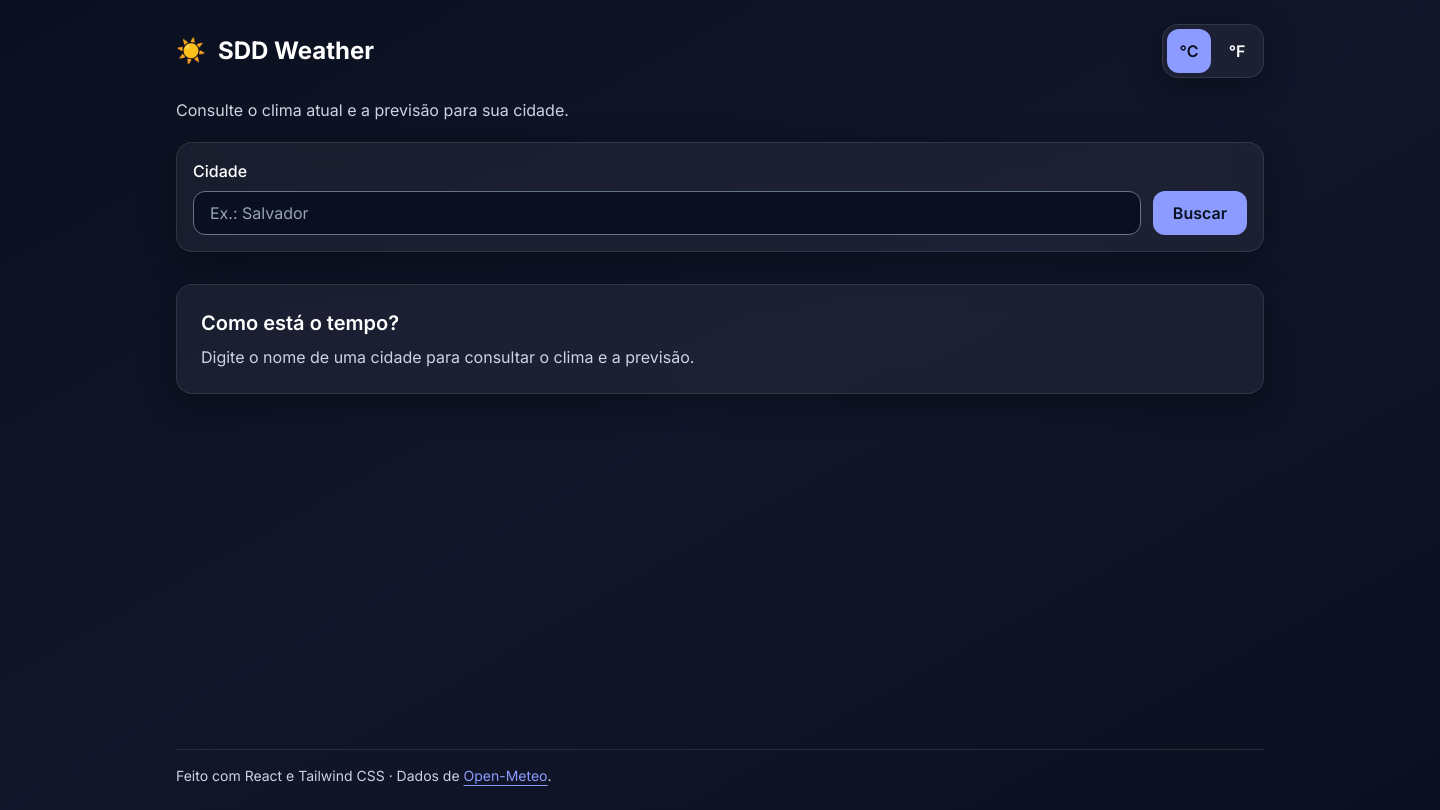
Scenario: App integrado › mostra empty sem forecast e permite uma nova busca preservando a unidade
Click the button named "Graus Fahrenheit": (1237,51) [1215,29,1259,73]
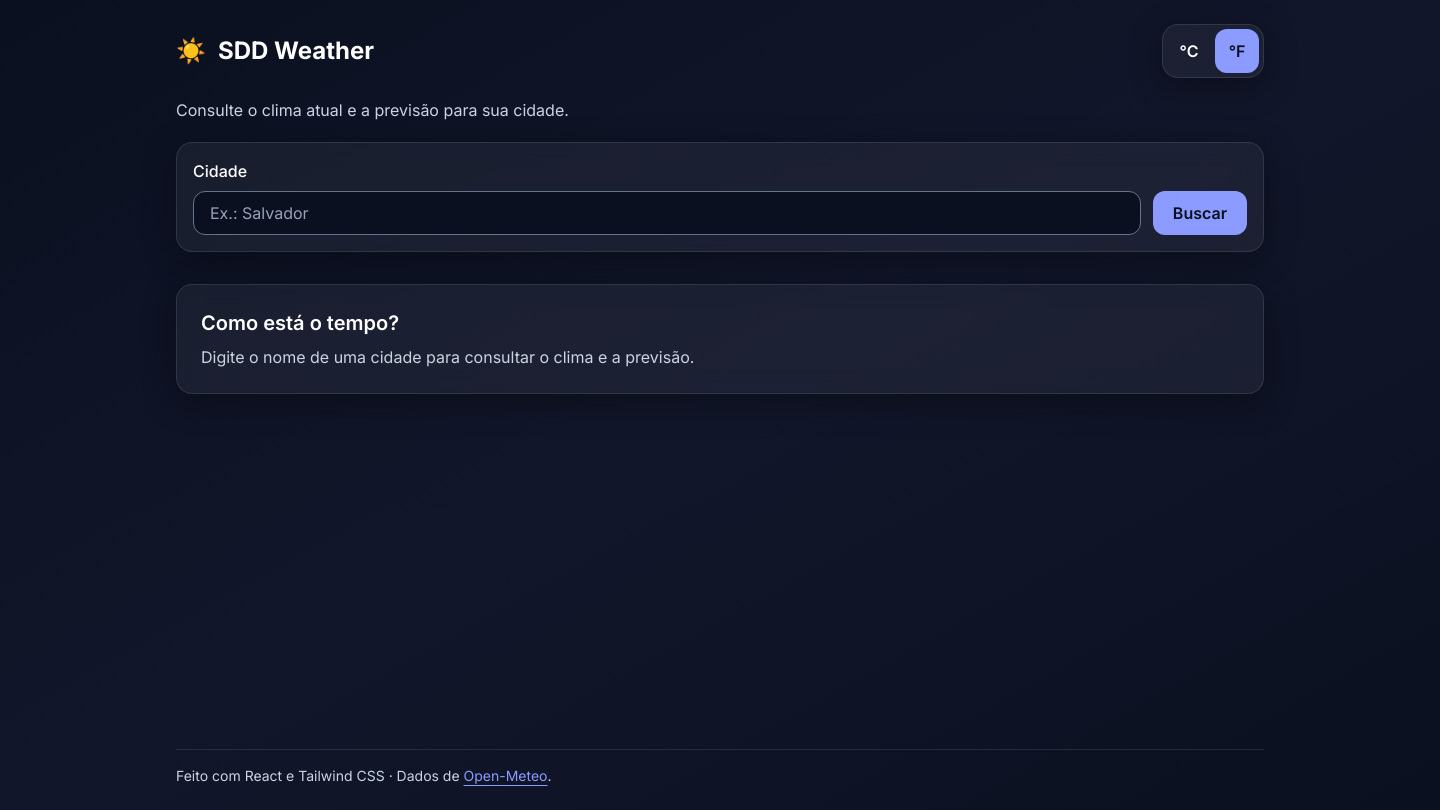
In the search field labelled "Cidade": (667,213) [193,191,1141,235], type "Inexistente"
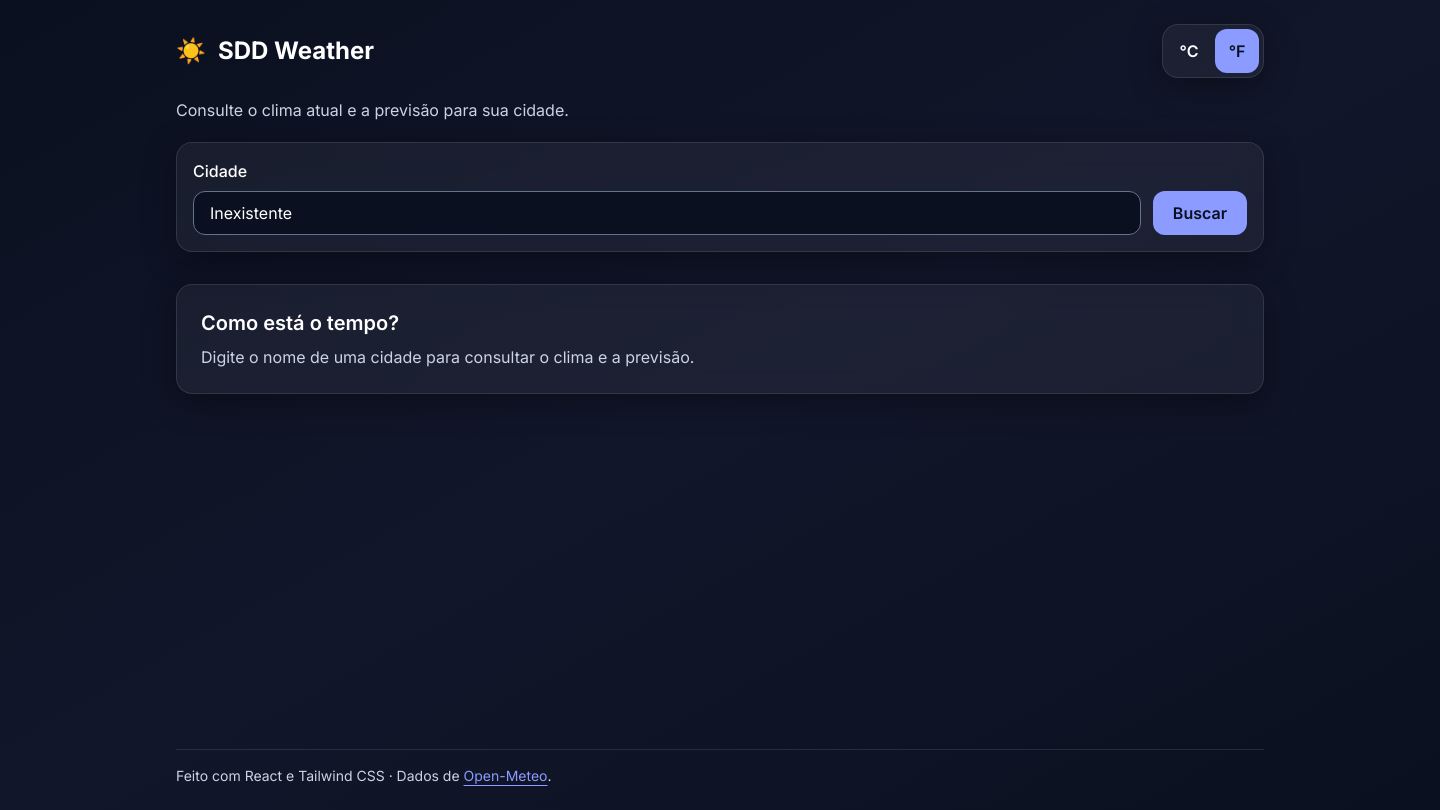
Submit the form, box [176,142,1264,252]
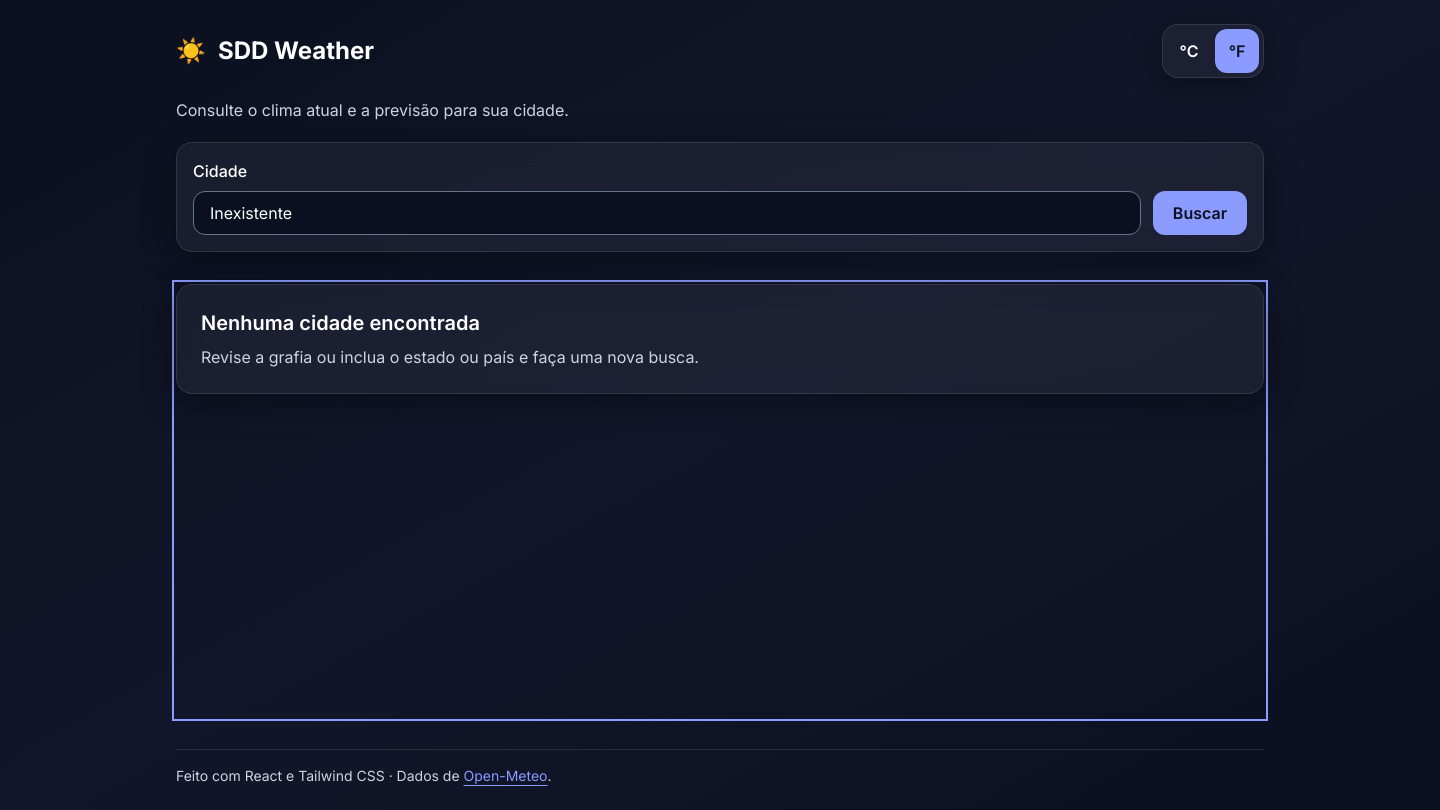
Expected: the heading "Nenhuma cidade encontrada" is shown, [201,311,480,335]
Replace the text in the search field labelled "Cidade" with "Salvador": (667,213) [193,191,1141,235]
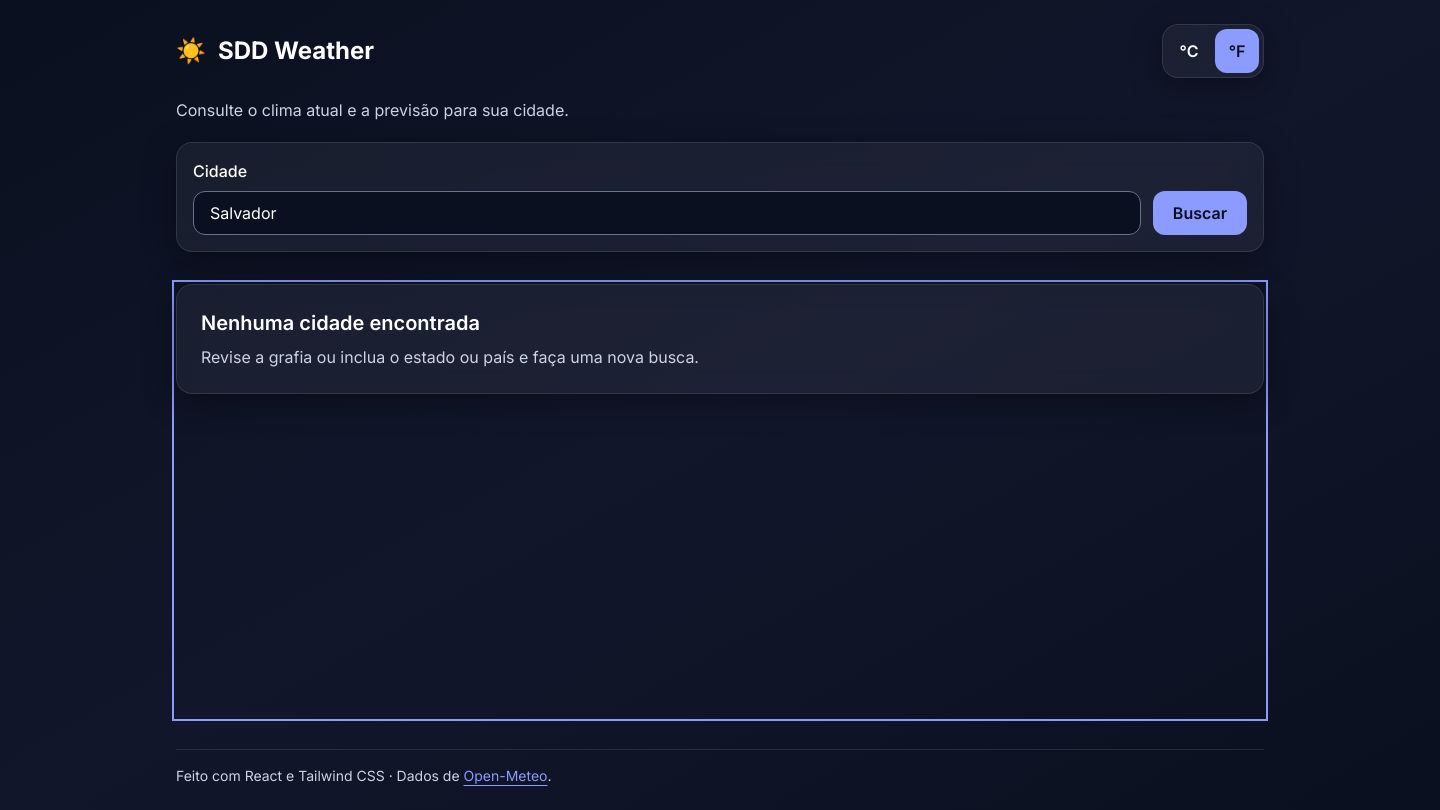
Submit the form, box [176,142,1264,252]
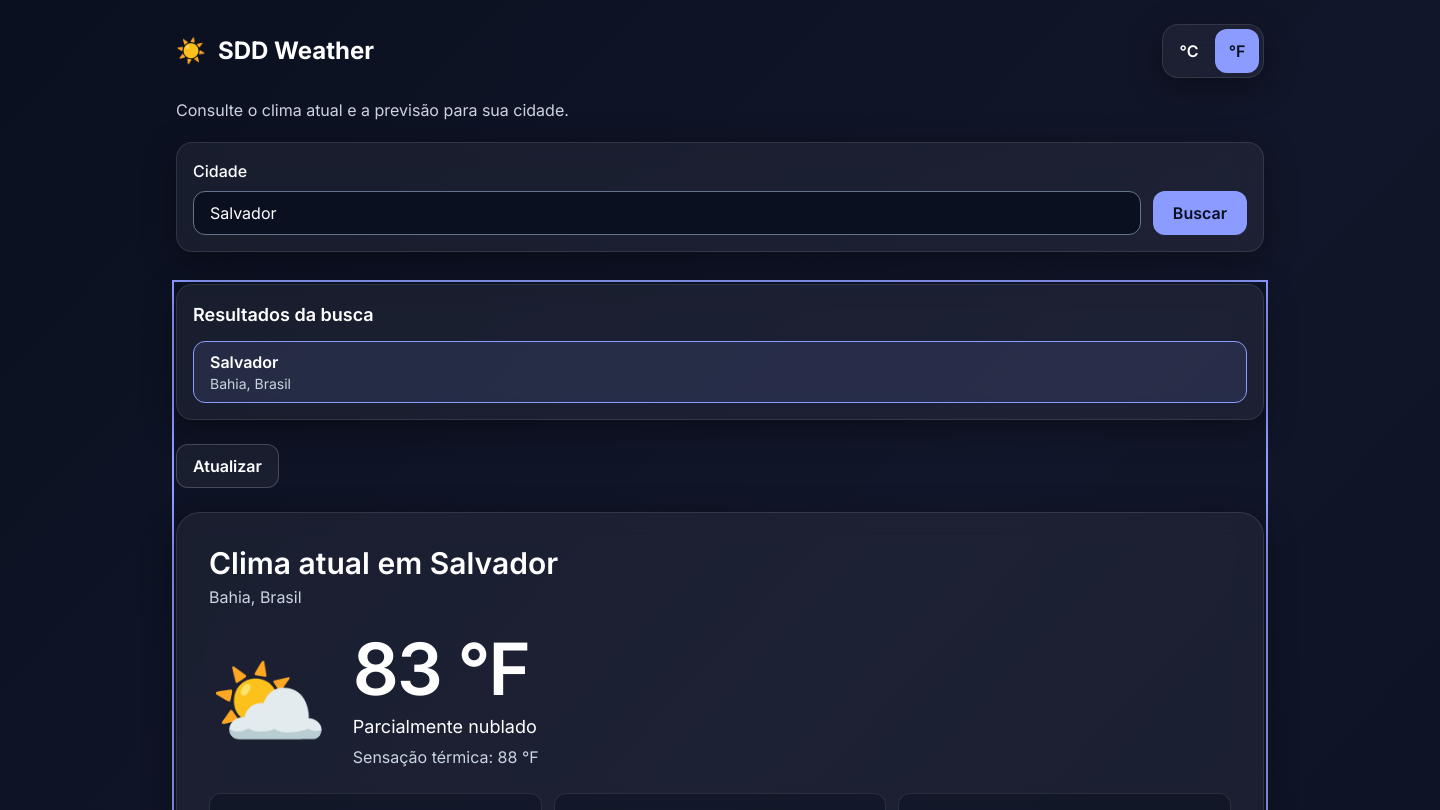
Expected: the text "83 °F" is shown, [353,633,539,705]
